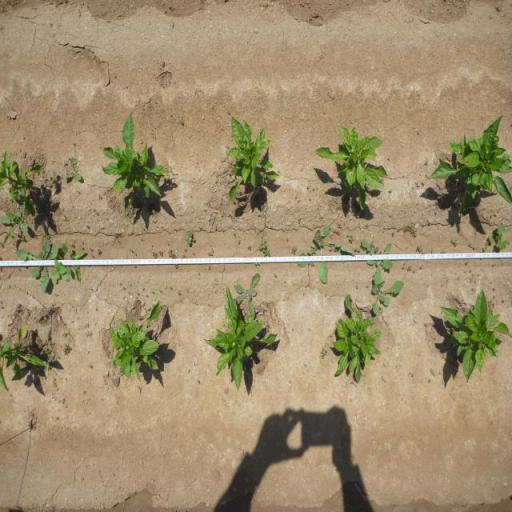plant: (426, 113, 512, 218), (202, 283, 281, 393), (97, 110, 172, 216), (312, 121, 390, 211), (438, 289, 508, 384), (223, 114, 280, 206), (106, 298, 164, 386), (329, 293, 384, 384), (0, 151, 47, 216), (0, 325, 46, 390)
weed: (296, 224, 355, 284), (15, 240, 59, 293), (361, 238, 396, 285), (56, 242, 88, 285), (0, 203, 30, 245), (234, 271, 261, 314), (371, 280, 404, 315), (488, 222, 510, 252), (62, 156, 83, 183), (49, 259, 69, 286), (51, 168, 62, 188), (184, 230, 196, 246), (257, 240, 267, 252), (62, 344, 72, 354), (168, 248, 177, 259), (408, 228, 419, 237), (320, 348, 327, 360), (450, 238, 460, 246), (372, 244, 380, 254), (263, 248, 271, 257), (44, 347, 50, 358), (290, 247, 298, 255), (152, 250, 158, 260), (44, 236, 53, 242), (265, 323, 270, 332), (354, 246, 361, 252), (481, 246, 488, 252), (349, 234, 354, 242), (158, 251, 164, 257), (416, 246, 422, 252), (207, 251, 214, 256), (407, 265, 412, 271), (98, 249, 102, 256), (254, 262, 260, 266)
